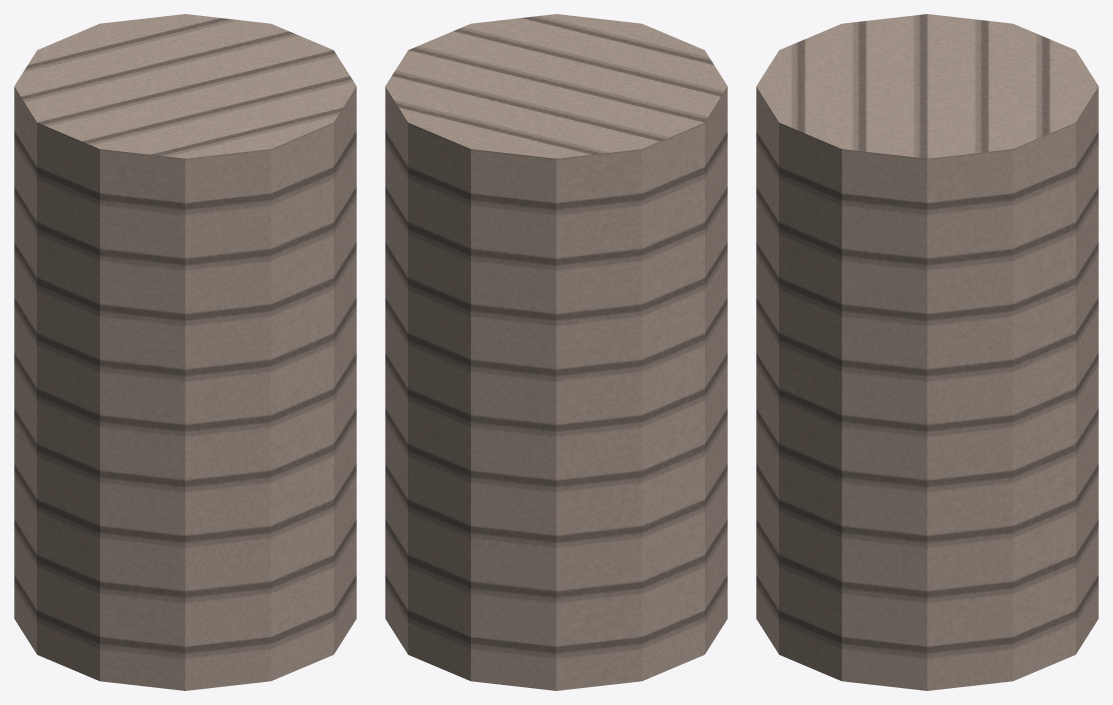
The model's file is tire_rack_stack.glb.
3 renders of one model, left to right at view 1: azimuth 30°, elevation 25°; view 2: azimuth 150°, elevation 25°; view 3: azimuth 270°, elevation 25°, orthographic.
Parts seen in each view (by area): view 1: tire_rack_stack-col; view 2: tire_rack_stack-col; view 3: tire_rack_stack-col.
Boxes of the visible parts, x1,y1,x2,y2 form: tire_rack_stack-col: (14,14,356,690); tire_rack_stack-col: (385,14,727,690); tire_rack_stack-col: (756,14,1098,690).
Bounding box in the file's own units: 0.7 × 1.2 × 0.7.
1 material, 1 textured.
